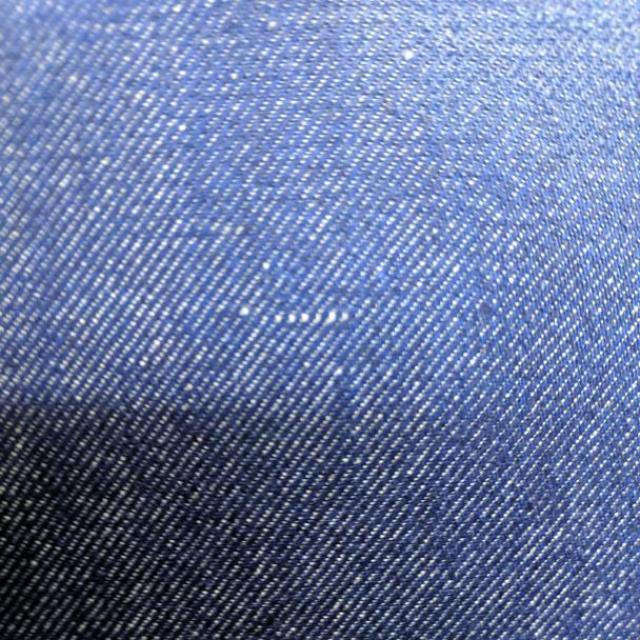Knot: (273, 309, 352, 327)
